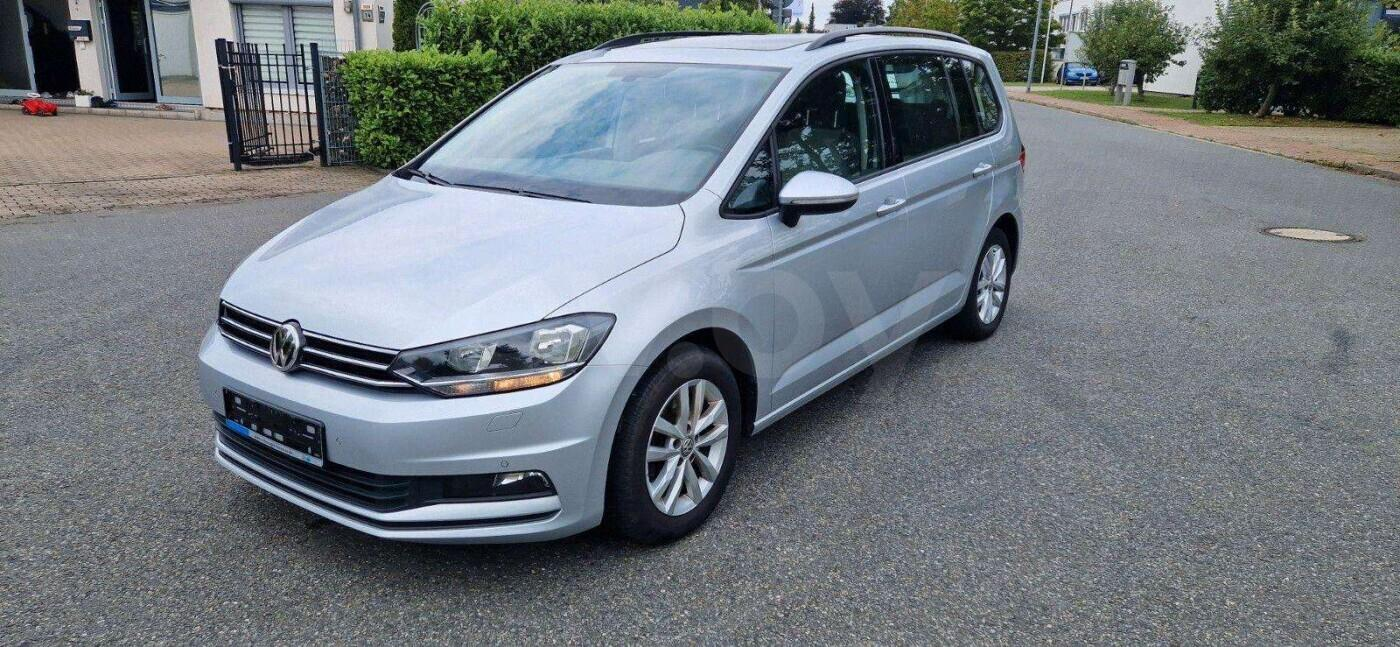Touran_2015: (192, 24, 1021, 559)
